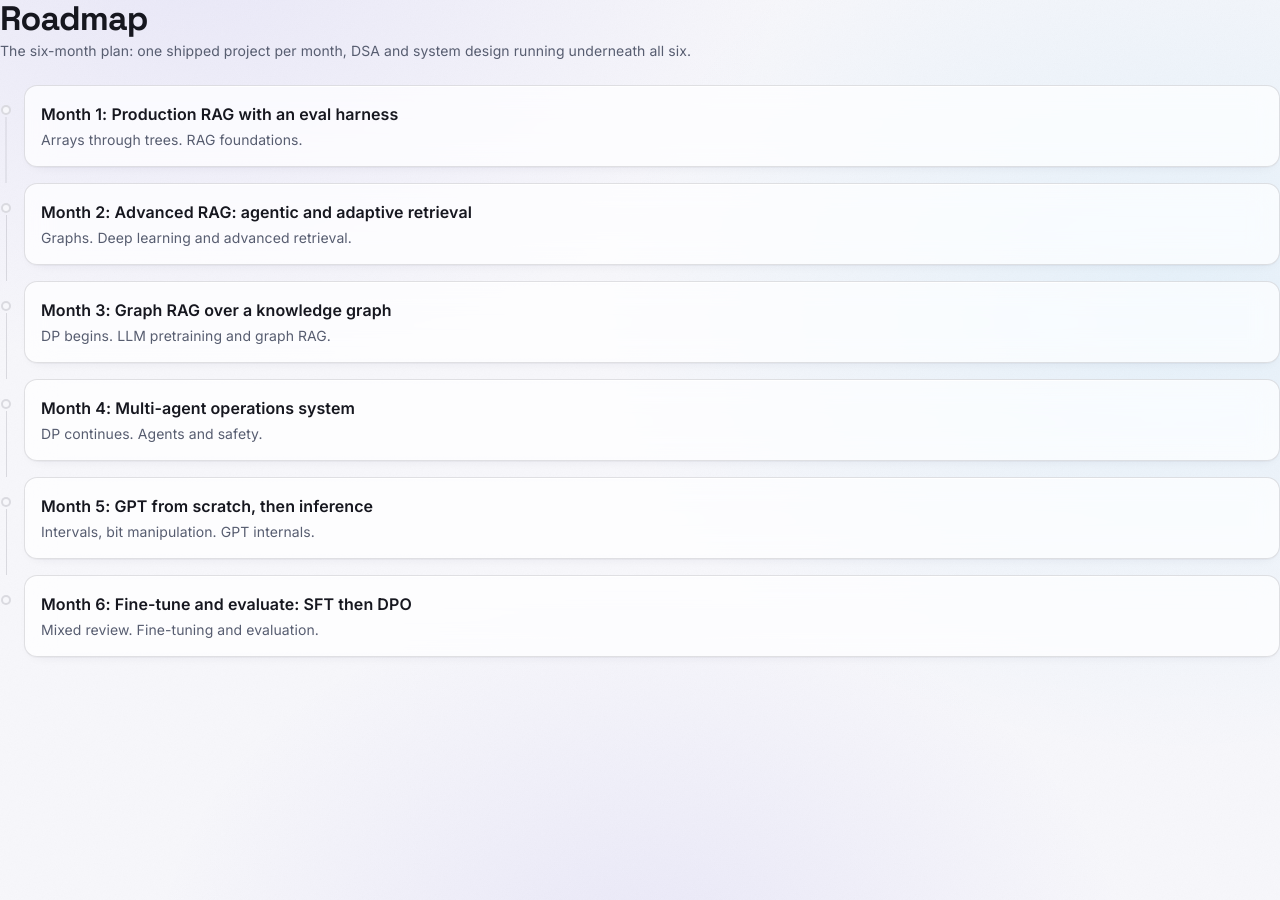
Roadmap › expands a later month to week targets only
Click the button "Month 5" at [68, 506], box [41,494,1263,542]
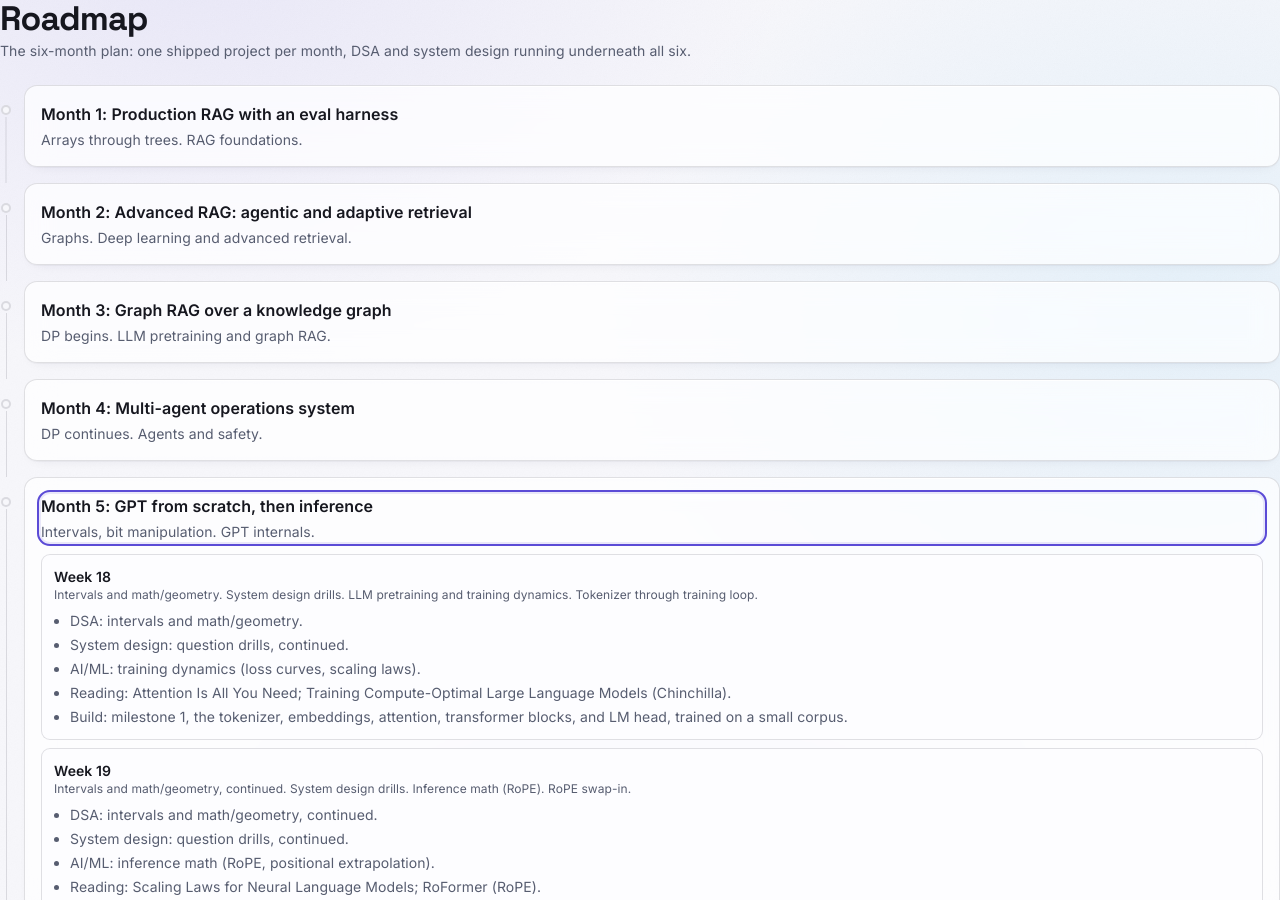
Expected: the text "Week 18" is shown, [54,568,111,585]
